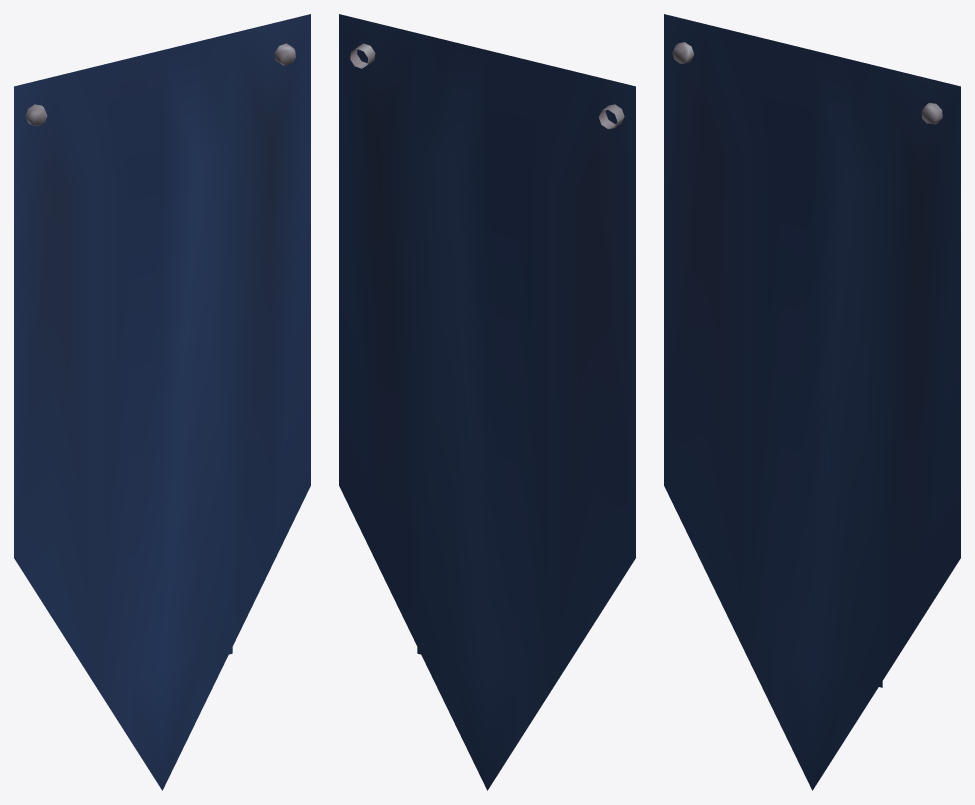
File: banner_alt.glb
3 views of the same model, side by side, from view 1: azimuth 30°, elevation 25°; view 2: azimuth 150°, elevation 25°; view 3: azimuth 330°, elevation 25° (orthographic).
Visible parts, largest first — view 1: banner_alt; view 2: banner_alt; view 3: banner_alt.
Boxes of the visible parts, x1=… form: banner_alt: x1=14, y1=14, x2=310, y2=790; banner_alt: x1=339, y1=14, x2=635, y2=790; banner_alt: x1=664, y1=14, x2=960, y2=790.
Bounding box in the file's own units: 0.8102 × 1.93 × 0.0568.
